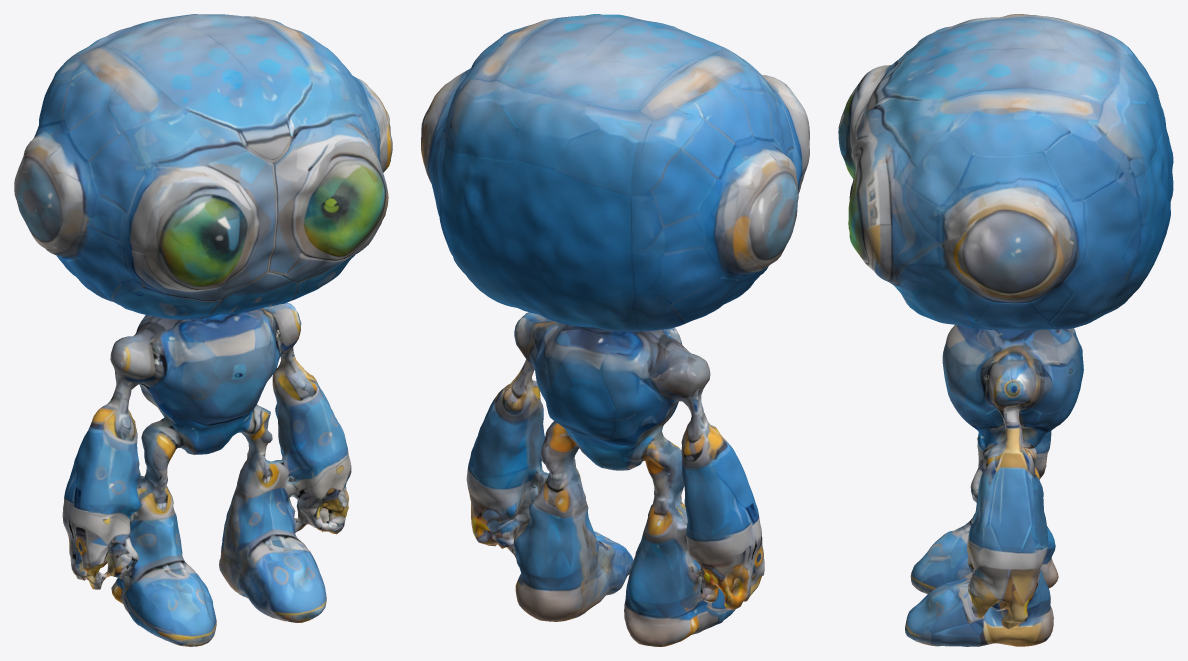
3 views of the same model, side by side, from view 1: azimuth 30°, elevation 25°; view 2: azimuth 150°, elevation 25°; view 3: azimuth 270°, elevation 25° (orthographic). The views are drawn at different scales.
Size of the model in its own units: 0.7633 by 1.2 by 0.636.
1 material, 1 textured.
